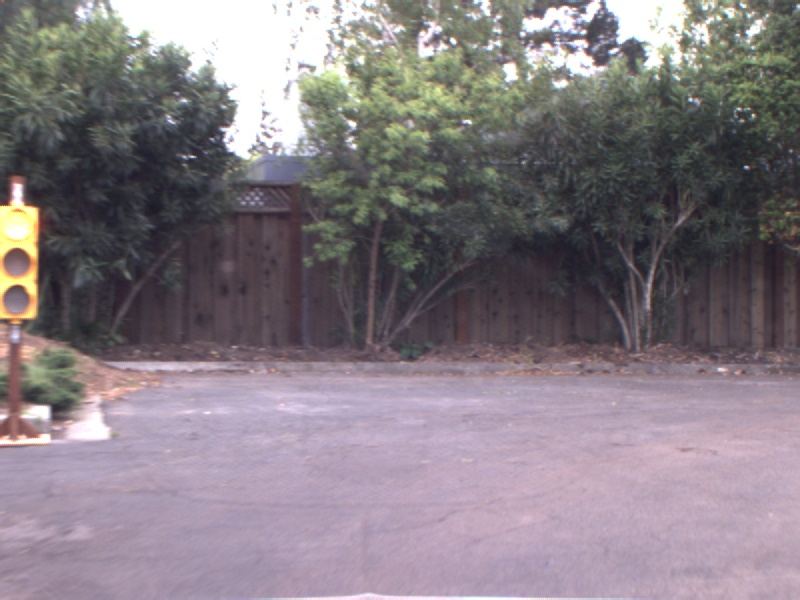red: (1, 202, 39, 325)
